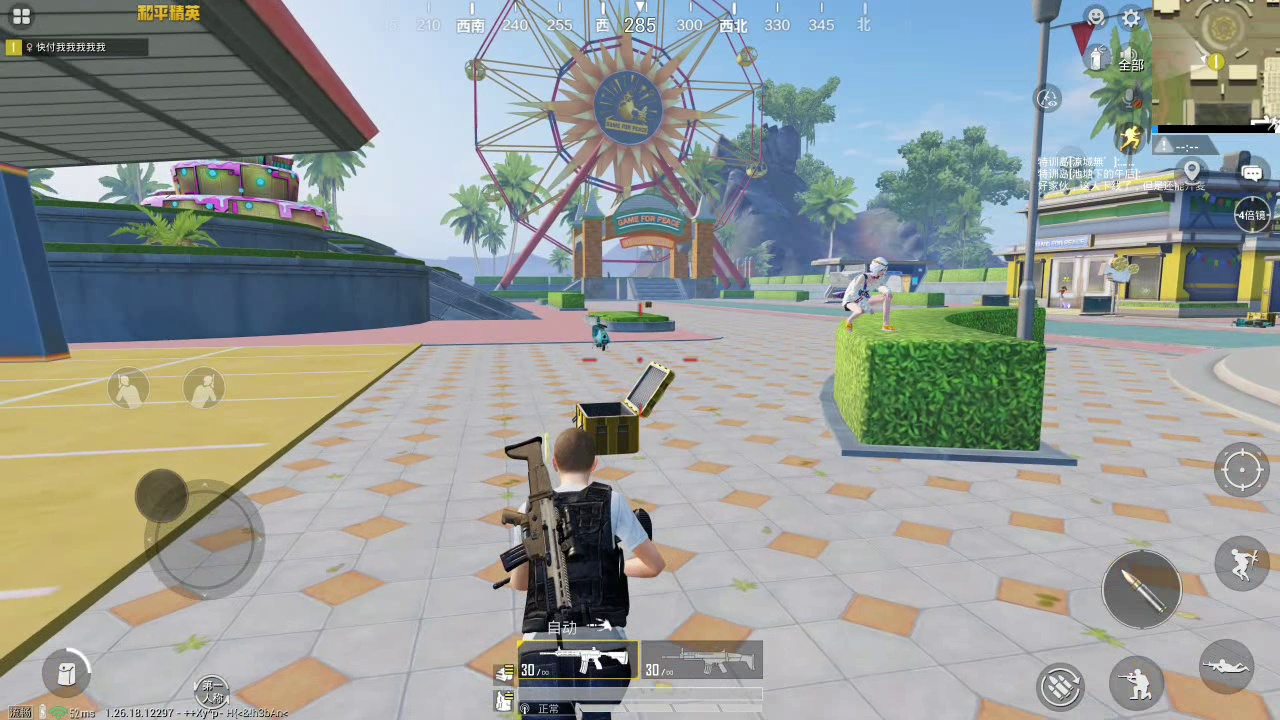enemy: (838, 257, 895, 330)
